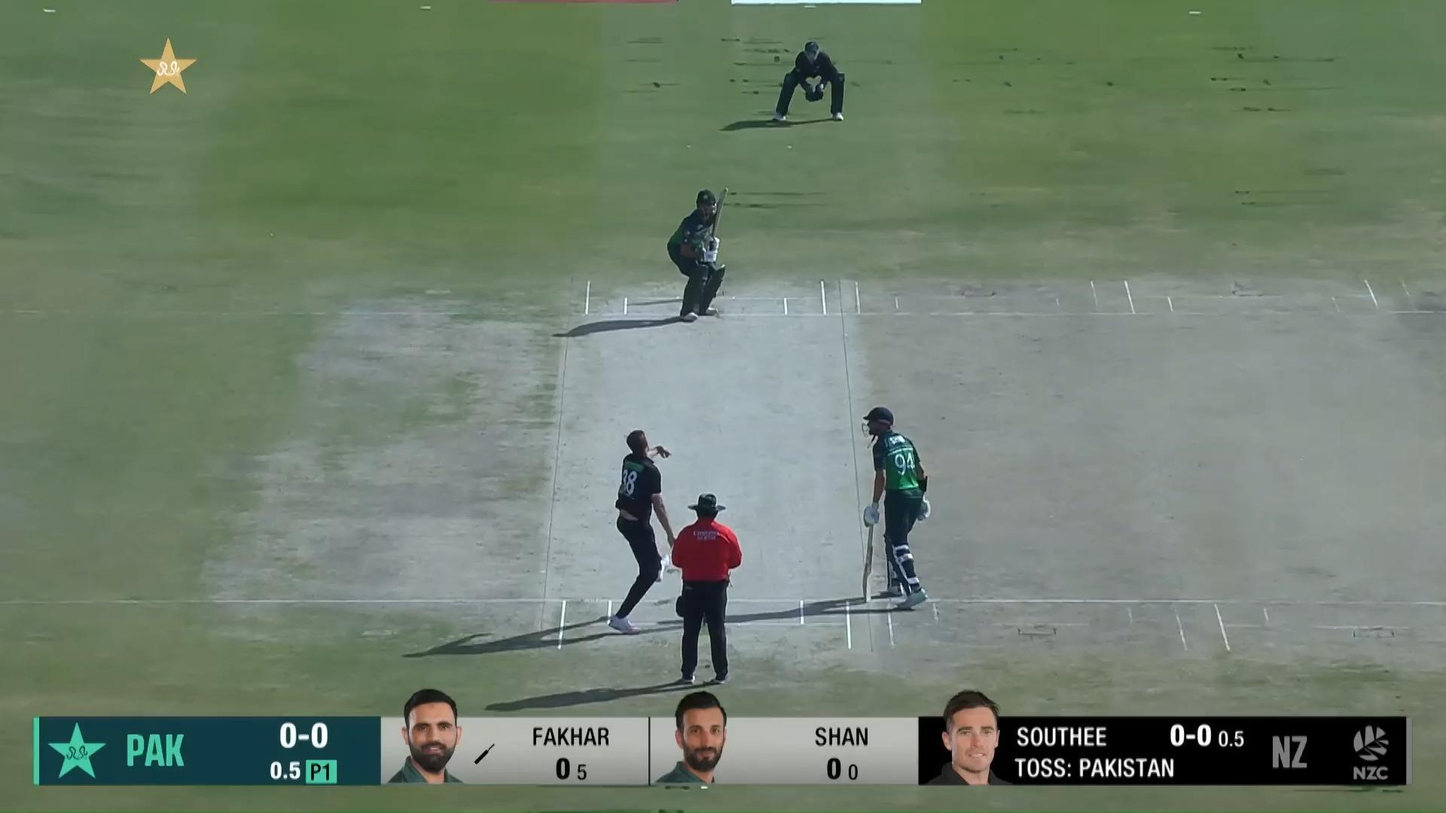BM 1: (665, 184, 731, 323)
BO: (609, 428, 676, 634)
